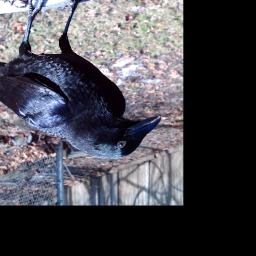Crow: (0, 0, 162, 159)
